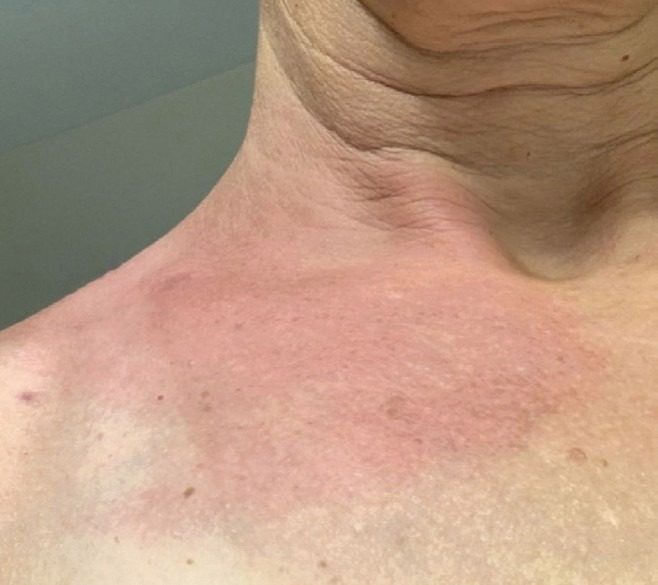Ringworm: (136, 253, 630, 545)
